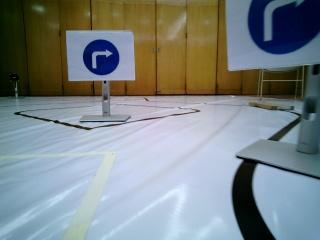right: (65, 30, 136, 83)
